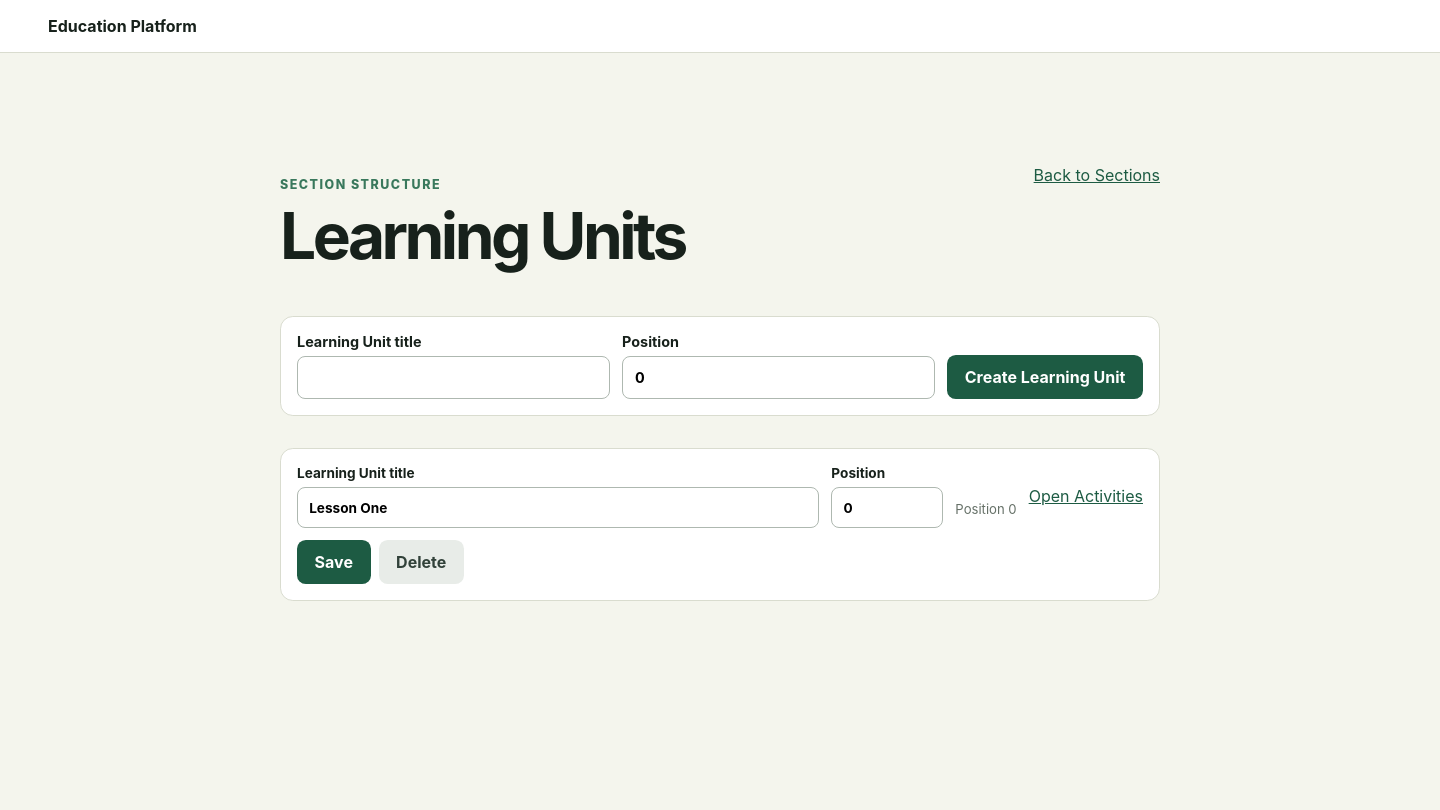
Test: Learning Unit UI › updates Learning Unit title and position through the existing API
Replace the text in the field labelled "Learning Unit title" in the row of "Open Activities" with "Updated Unit". click: (558, 508)
box: x1=297 y1=487 x2=819 y2=528
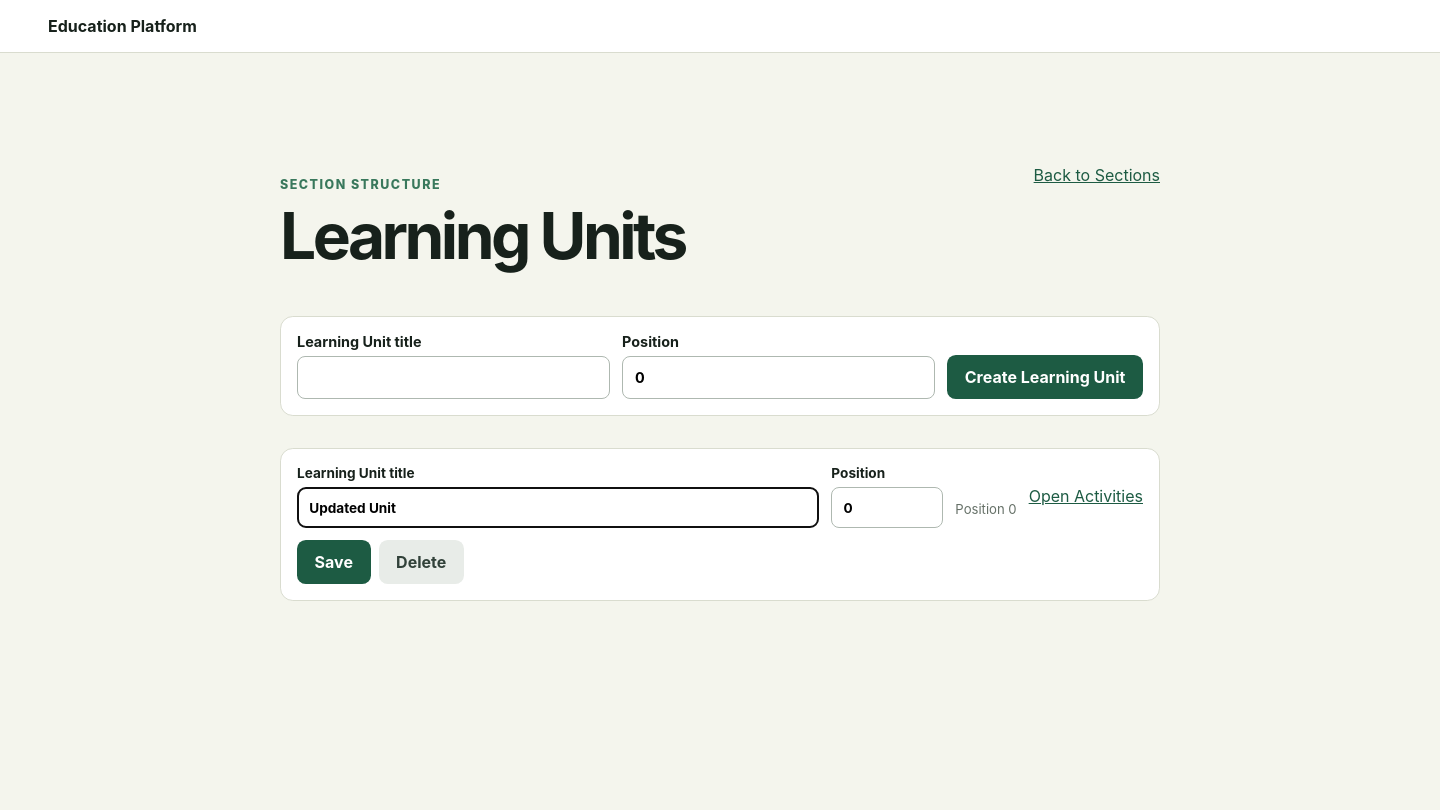
Replace the text in the number field labelled "Position" in the row of "Open Activities" with "3". click: (887, 508)
box: x1=831 y1=487 x2=943 y2=528
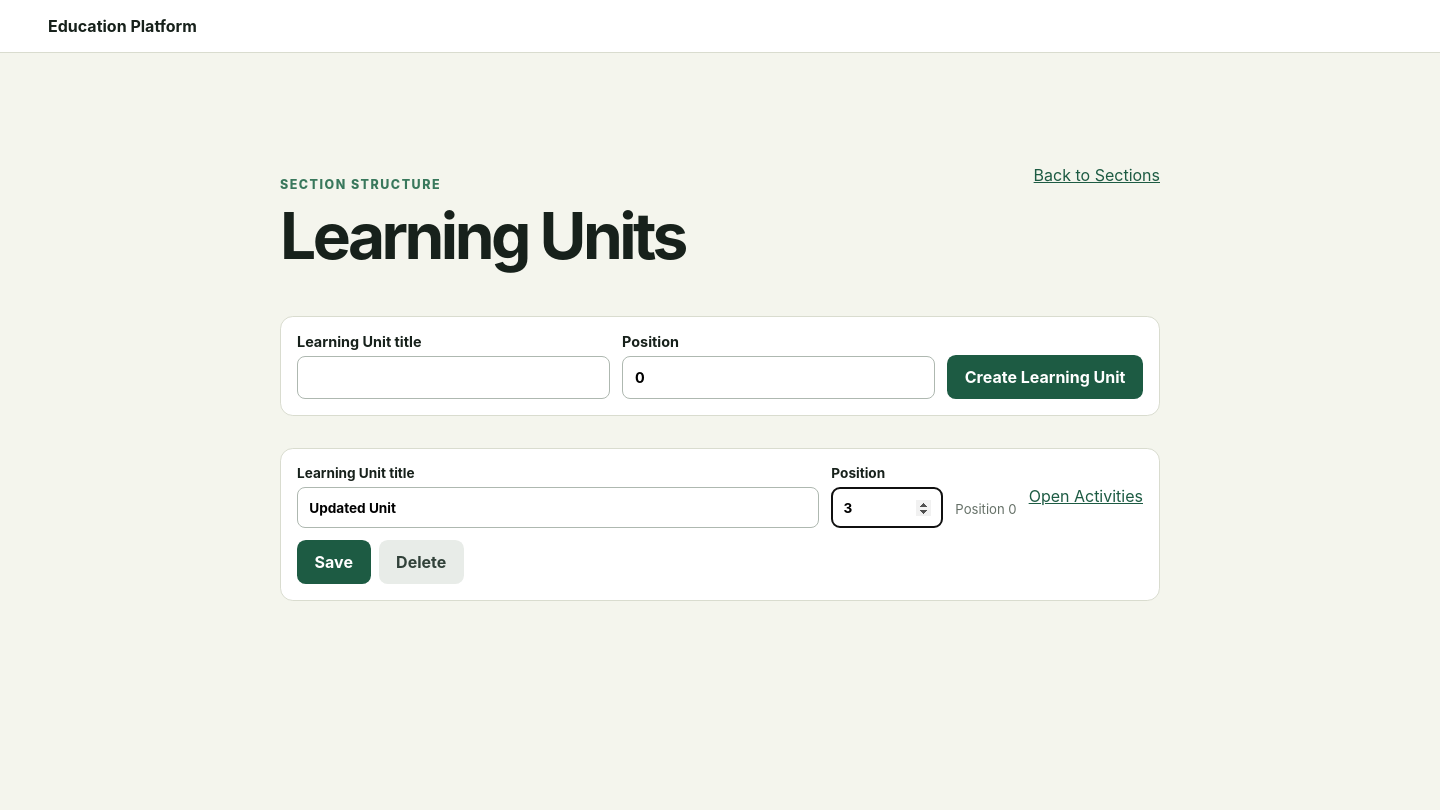
Click the button "Save". click: click(334, 562)
box: x1=297 y1=540 x2=370 y2=584
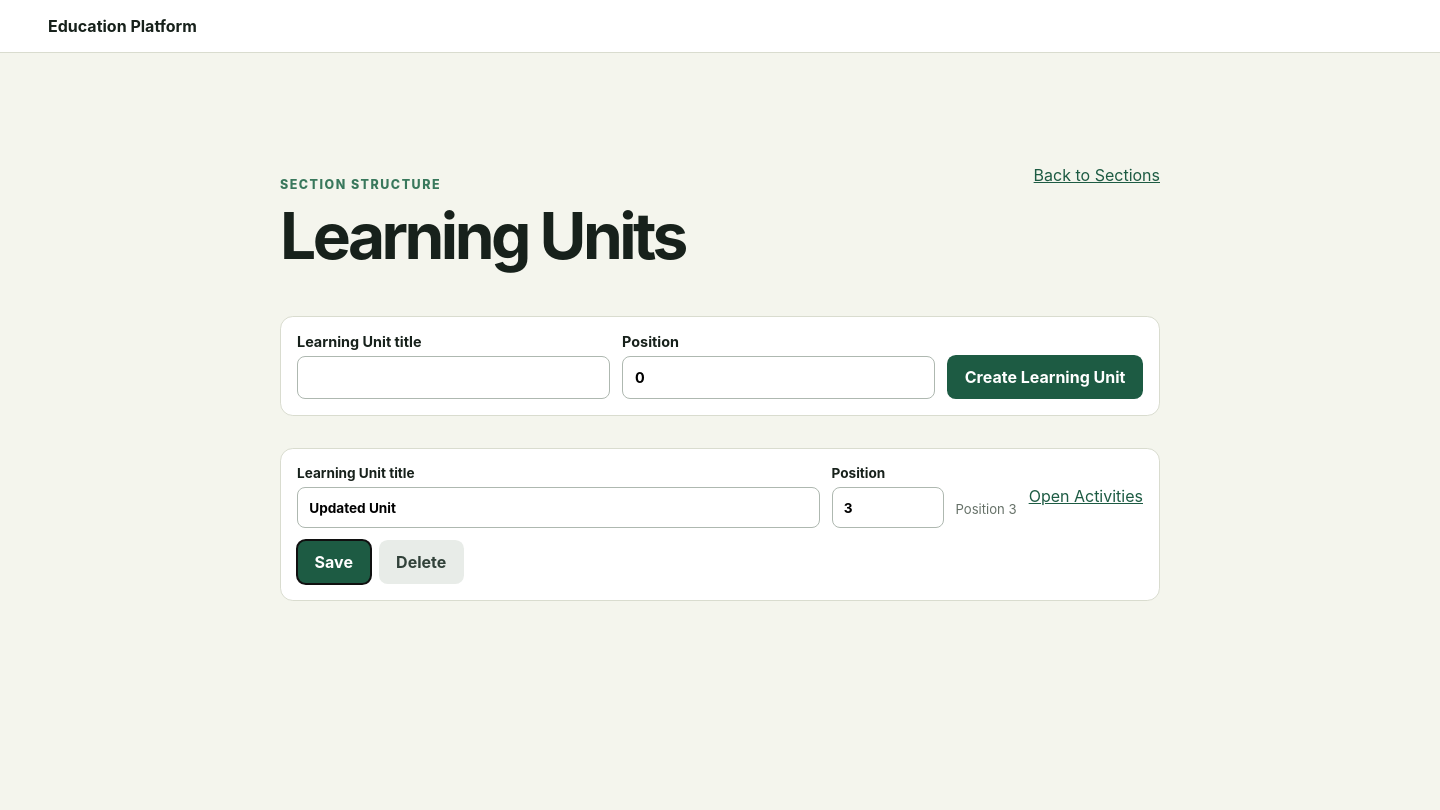
Expected: the text "Position 3" is shown, x1=956 y1=501 x2=1017 y2=517
